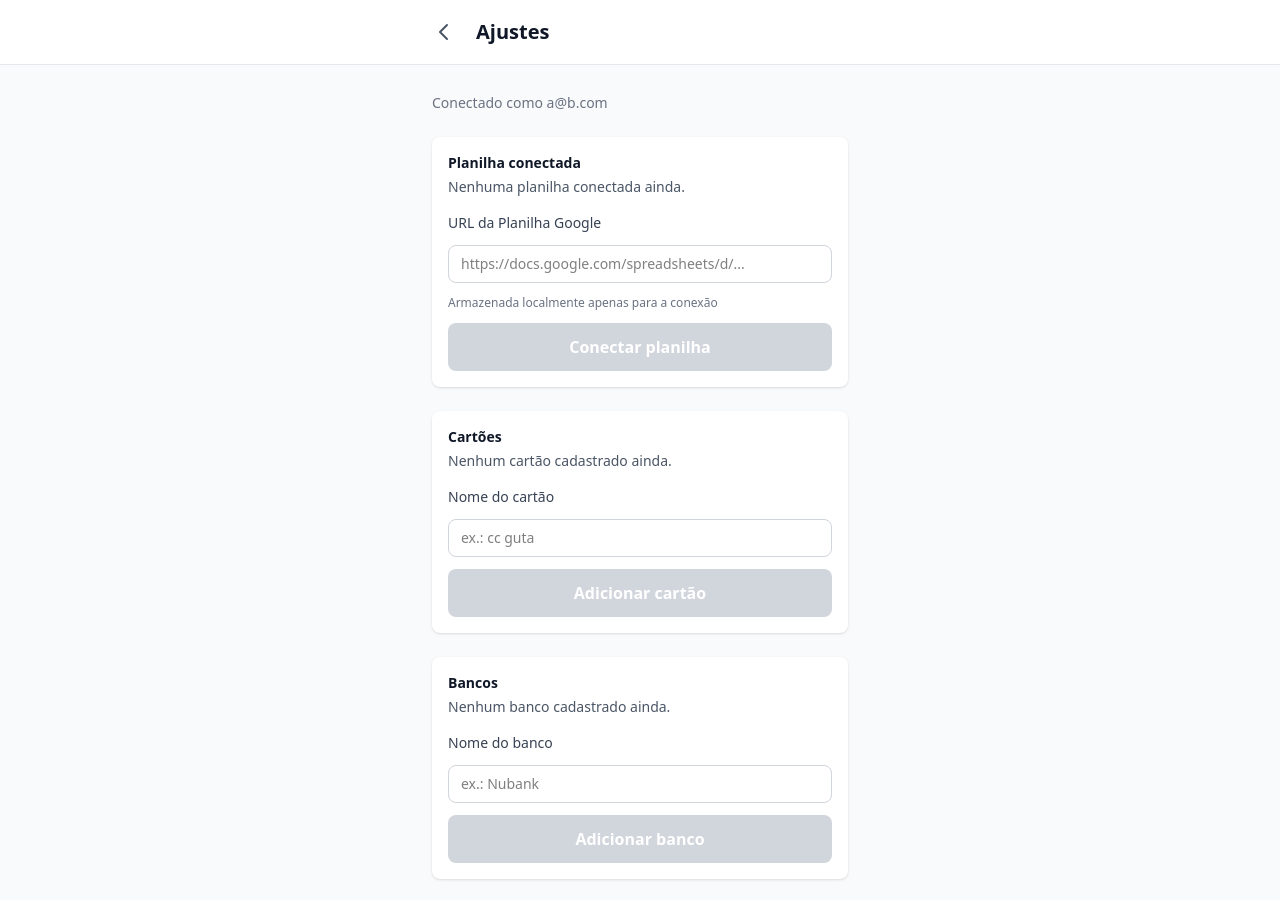
Test: Settings connected sheet › rejects an invalid sheet URL
// When the user submits something that is not a sheet URL
Type "not a sheet" into the field labelled "URL da Planilha Google" at (640, 264), box [448,245,832,283]
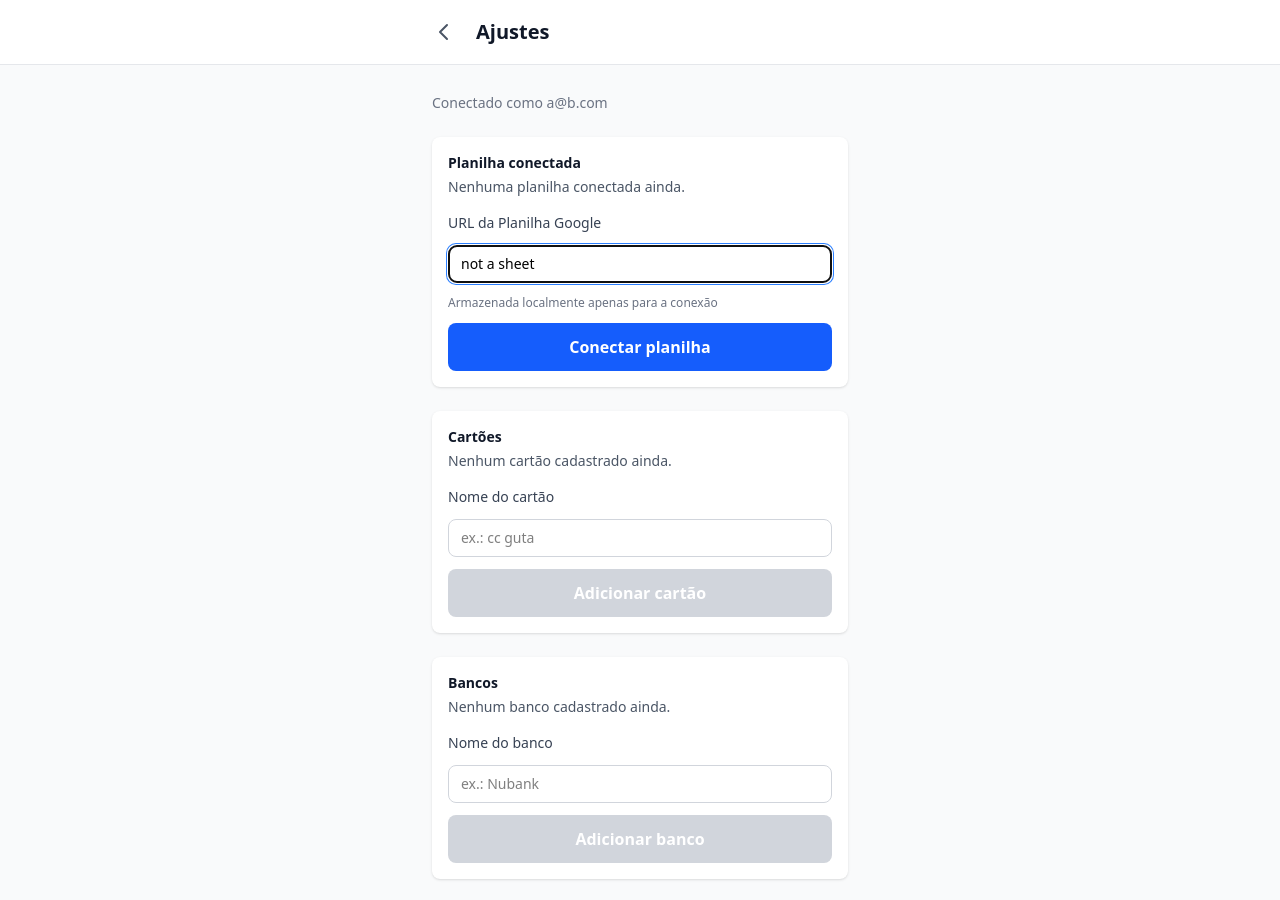
Click the button "Conectar planilha" at (640, 347), box [448,323,832,371]
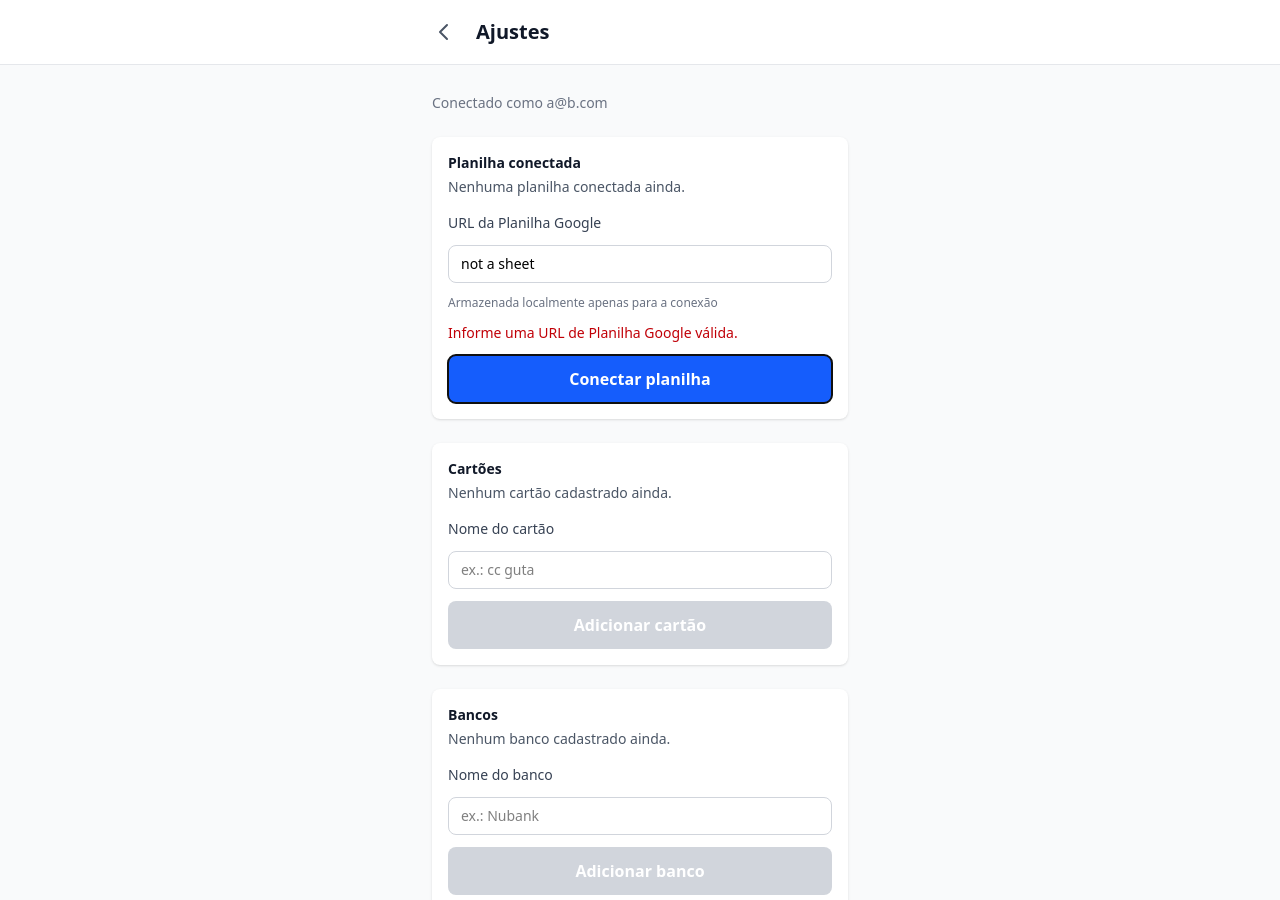
Expected: the text "Informe uma URL de Planilha Google válida." is shown, [448,323,738,342]
